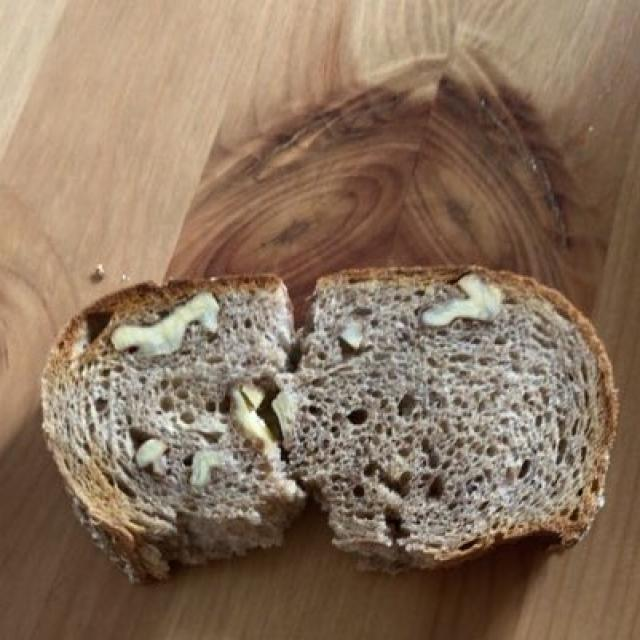bread-nut: (39, 245, 610, 574)
